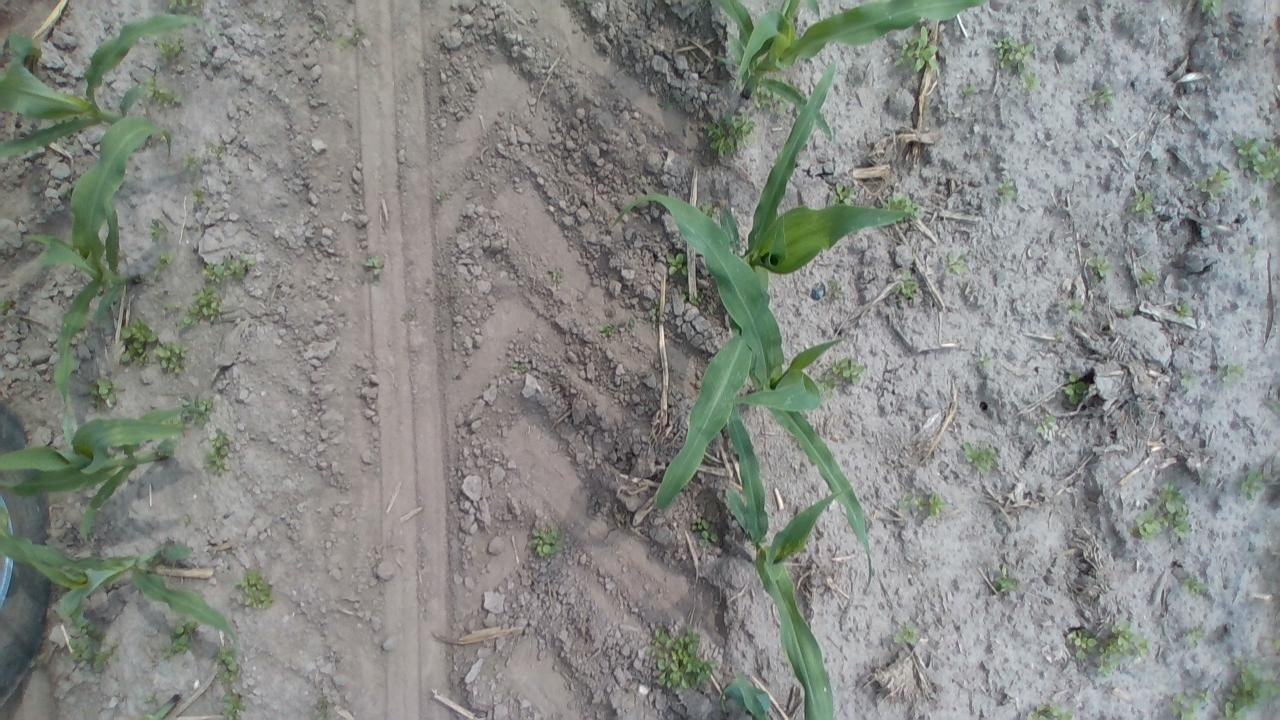Maize: (653, 58, 919, 544), (610, 195, 872, 594), (21, 114, 174, 462), (705, 376, 852, 720), (0, 512, 241, 686), (713, 2, 985, 144), (0, 12, 226, 158), (1, 409, 210, 545)
Weeds: (648, 621, 718, 696), (1219, 658, 1276, 720), (66, 612, 121, 674), (1140, 480, 1194, 542), (1097, 620, 1149, 676), (701, 108, 755, 161), (1129, 489, 1177, 541), (1233, 134, 1278, 184), (177, 286, 225, 330), (892, 30, 939, 74), (120, 318, 156, 366), (237, 568, 276, 612), (201, 253, 256, 284), (822, 356, 866, 394), (992, 34, 1032, 74), (528, 519, 566, 560), (1128, 500, 1164, 540), (143, 75, 185, 109), (165, 620, 200, 660), (204, 428, 234, 474), (962, 439, 998, 476), (86, 375, 125, 409), (1166, 688, 1210, 718), (901, 490, 948, 518), (1195, 166, 1231, 202), (1238, 463, 1268, 502), (320, 22, 364, 48), (891, 492, 938, 516), (156, 340, 187, 376), (178, 395, 215, 425), (1068, 628, 1098, 664), (892, 270, 923, 303), (690, 516, 720, 550), (212, 644, 236, 686), (1024, 702, 1078, 720), (154, 31, 187, 59), (220, 688, 248, 719), (991, 564, 1018, 596), (1062, 373, 1088, 406), (994, 174, 1020, 207), (140, 696, 177, 719), (1087, 82, 1115, 112), (1130, 188, 1156, 217), (892, 620, 919, 647), (1085, 253, 1114, 278), (828, 182, 856, 207), (755, 88, 784, 112), (941, 253, 969, 277), (664, 250, 688, 278), (884, 192, 915, 213), (1182, 574, 1210, 597), (1218, 362, 1242, 385), (1037, 413, 1059, 438), (597, 320, 624, 340), (155, 251, 178, 274), (1184, 622, 1206, 646), (364, 255, 385, 280), (147, 219, 168, 244), (314, 693, 335, 718), (140, 694, 168, 712), (206, 138, 227, 161), (824, 278, 844, 302), (182, 150, 202, 174), (688, 289, 708, 312), (1022, 70, 1040, 95), (1198, 0, 1224, 17), (189, 188, 210, 209), (1138, 266, 1160, 286), (27, 651, 50, 670), (166, 0, 202, 11), (696, 201, 718, 219), (1065, 298, 1085, 317), (1178, 370, 1199, 388), (547, 266, 565, 285), (975, 350, 992, 369), (1175, 302, 1194, 318), (0, 296, 16, 314), (510, 360, 530, 374), (142, 694, 163, 706), (960, 82, 976, 97), (434, 188, 449, 203), (404, 308, 417, 324), (1246, 248, 1258, 264), (1273, 639, 1280, 651)
